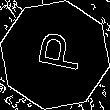P_W: (26, 32, 84, 78)
